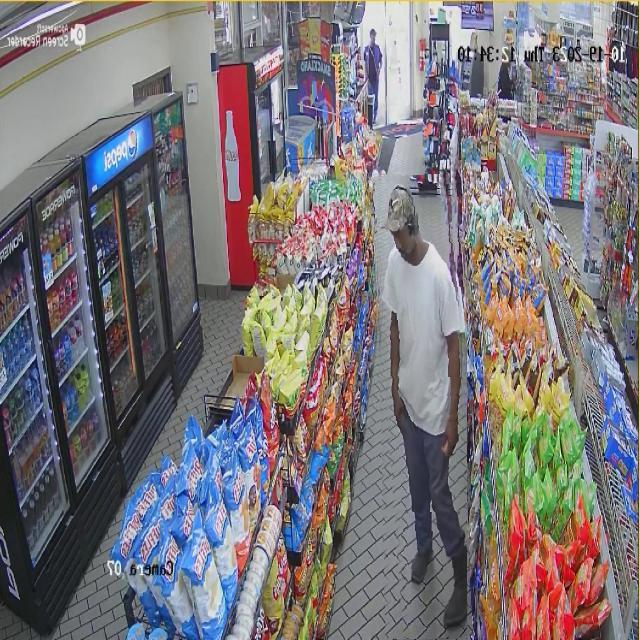Normal: (375, 174, 467, 639)
